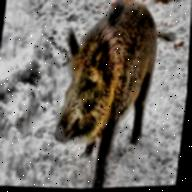boar: (37, 0, 184, 190)
